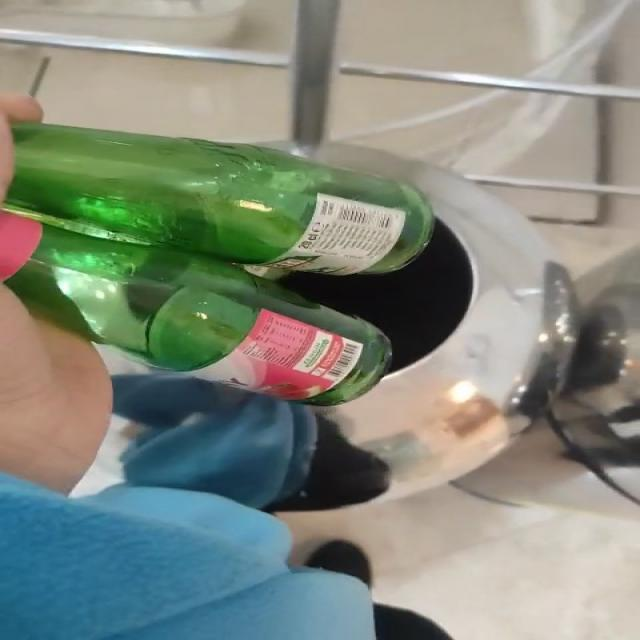Glass: (5, 123, 435, 406)
